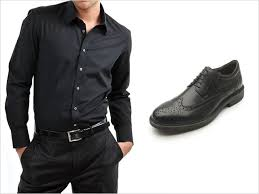F_belt: (32, 122, 115, 143)
F_dress pants: (20, 140, 127, 191)
